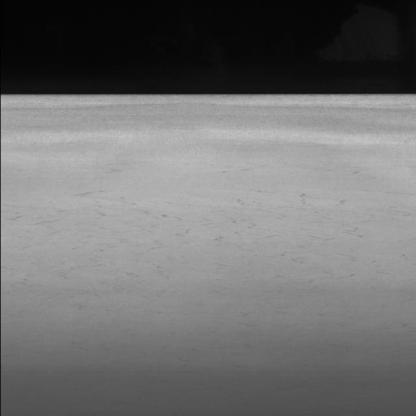silk_spot: (19, 178, 416, 288)
